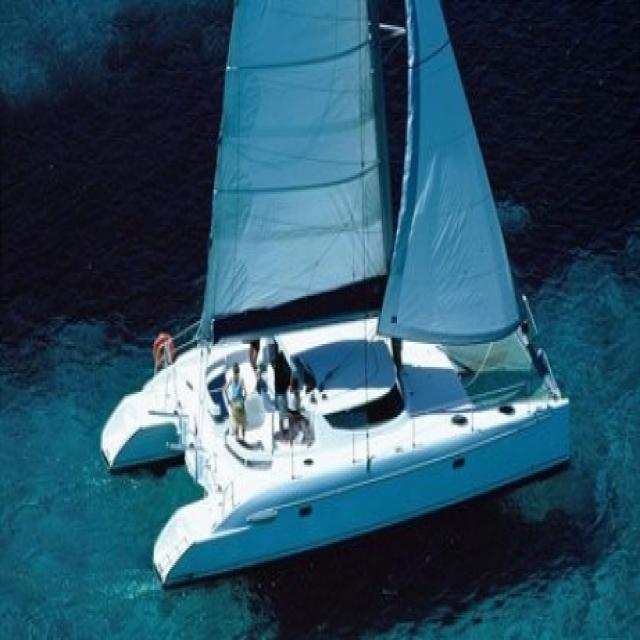Ship: (99, 1, 575, 579)
